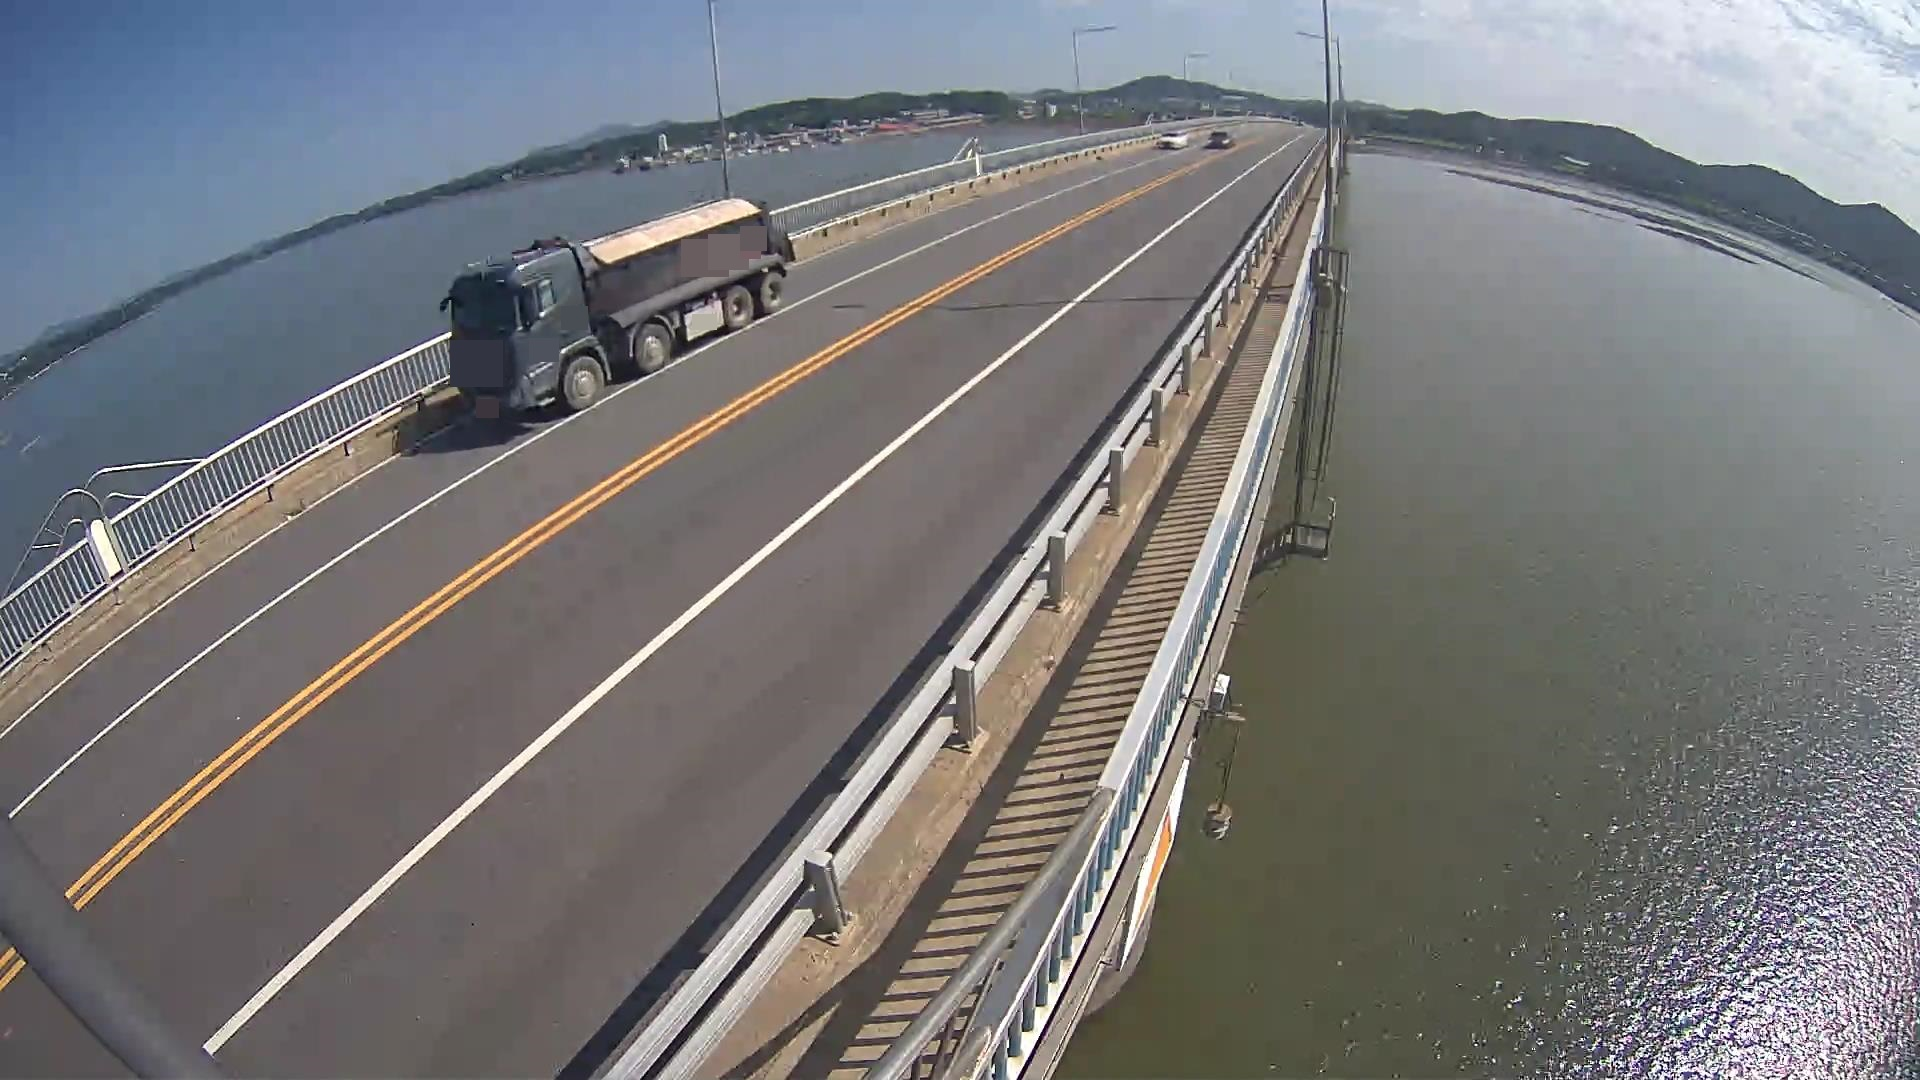정상차량: (440, 197, 796, 412)
